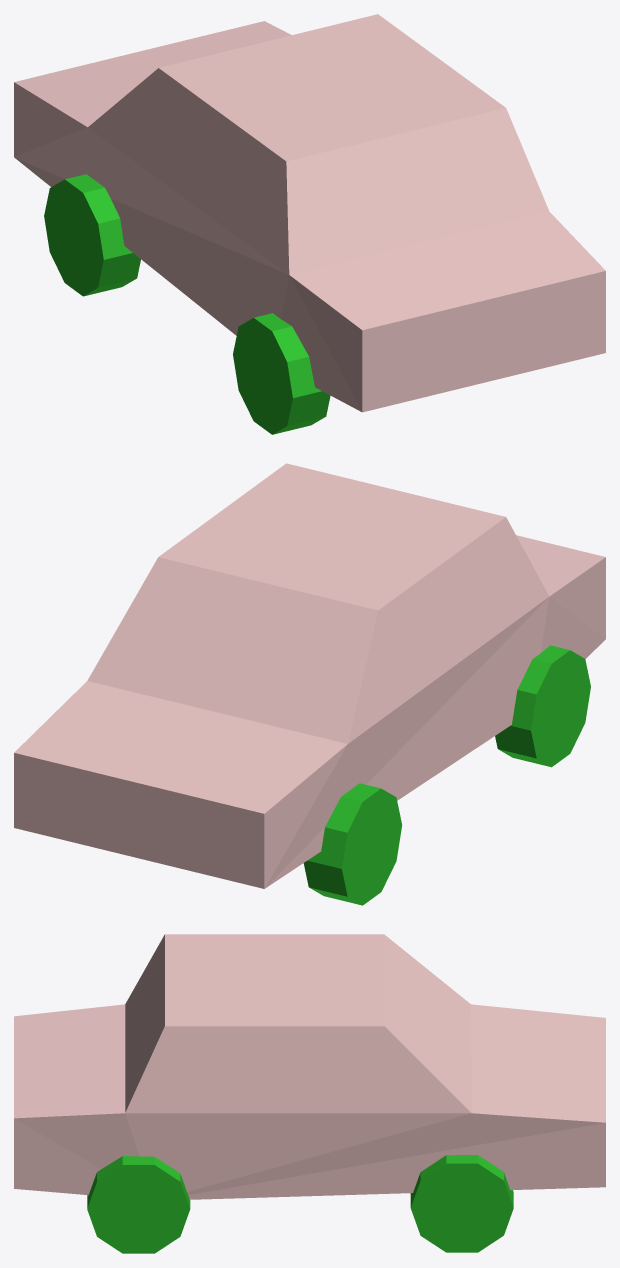
File: car.dae
3 renders of one model, top to bottom at view 1: azimuth 30°, elevation 25°; view 2: azimuth 150°, elevation 25°; view 3: azimuth 270°, elevation 25°, orthographic. The views are drawn at different scales.
Visible parts, largest first — view 1: Chassis, WheelFL_PIVOT, WheelBL; view 2: Chassis, WheelFL_PIVOT, WheelBL; view 3: Chassis, WheelBR, WheelFR_PIVOT.
Boxes of the visible parts, x1=… form: Chassis: x1=14, y1=14, x2=605, y2=412; WheelFL_PIVOT: x1=44, y1=174, x2=140, y2=296; WheelBL: x1=233, y1=313, x2=330, y2=434; Chassis: x1=14, y1=463, x2=605, y2=888; WheelFL_PIVOT: x1=303, y1=783, x2=402, y2=905; WheelBL: x1=495, y1=645, x2=590, y2=767; Chassis: x1=14, y1=934, x2=605, y2=1199; WheelBR: x1=87, y1=1156, x2=190, y2=1253; WheelFR_PIVOT: x1=410, y1=1155, x2=513, y2=1252.
Bounding box in the file's own units: 117 × 91.64 × 233.
